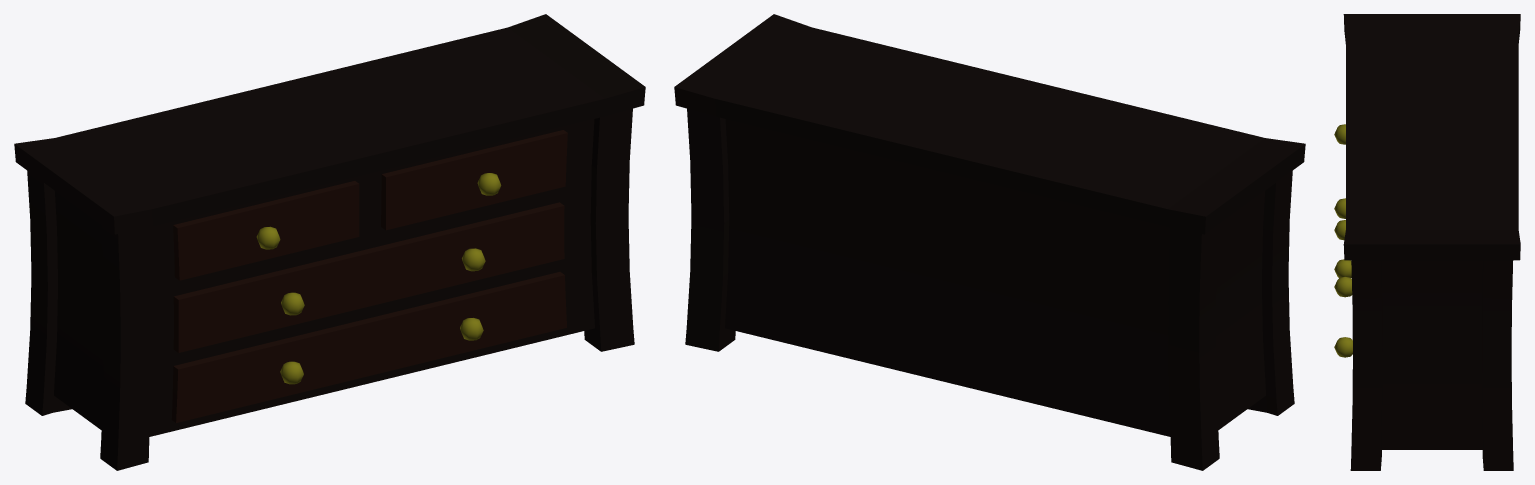
File: prop_dresser.FBX
3 views of the same model, side by side, from view 1: azimuth 30°, elevation 25°; view 2: azimuth 150°, elevation 25°; view 3: azimuth 270°, elevation 25° (orthographic). The views are drawn at different scales.
Visible parts, largest first — view 1: Dresser; view 2: Dresser; view 3: Dresser.
Boxes of the visible parts, x1,y1,x2,y2 form: Dresser: [14, 14, 645, 470]; Dresser: [674, 14, 1305, 470]; Dresser: [1334, 14, 1520, 470].
Bounding box in the file's own units: 0.9413 × 0.4379 × 0.3222.
